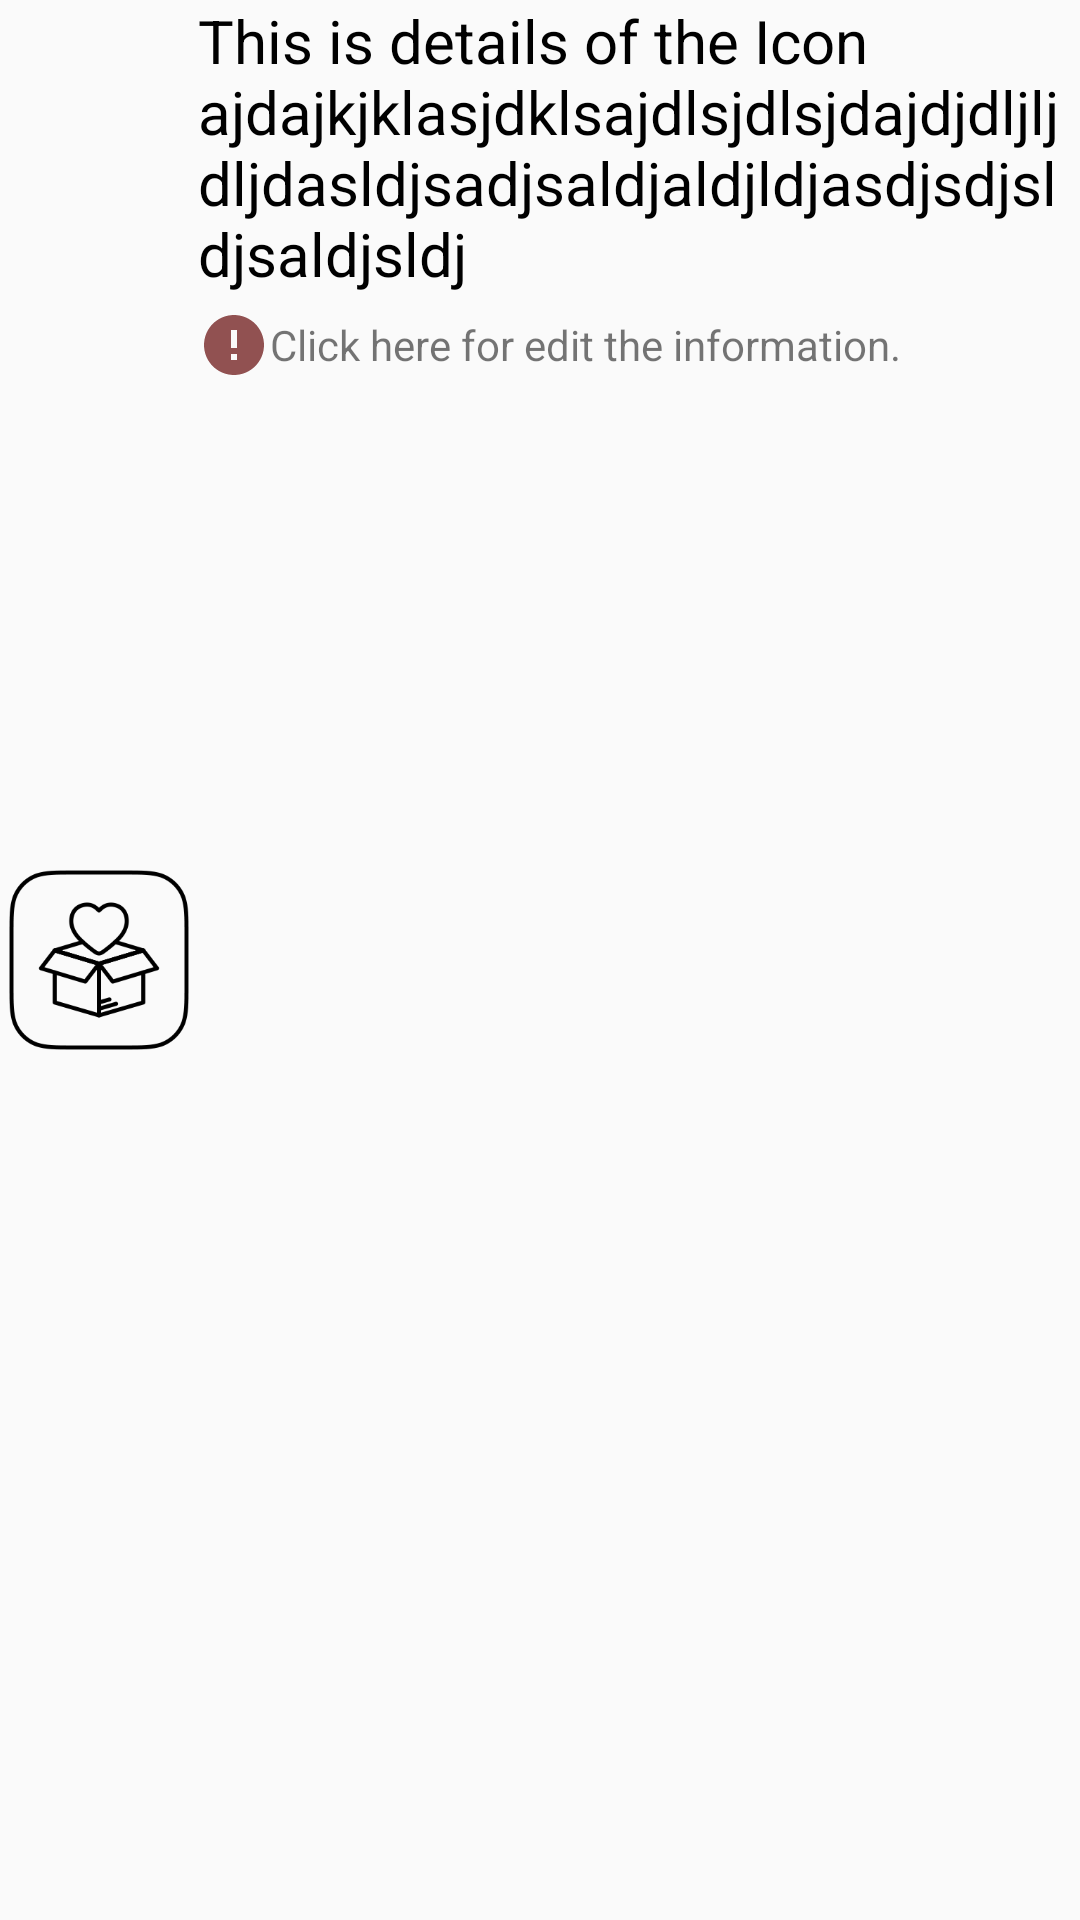

Locate icon controls on the screen. Image size 1080*1920, boxes as (x1, y1, x2, y2).
error: (204, 315, 264, 375)
